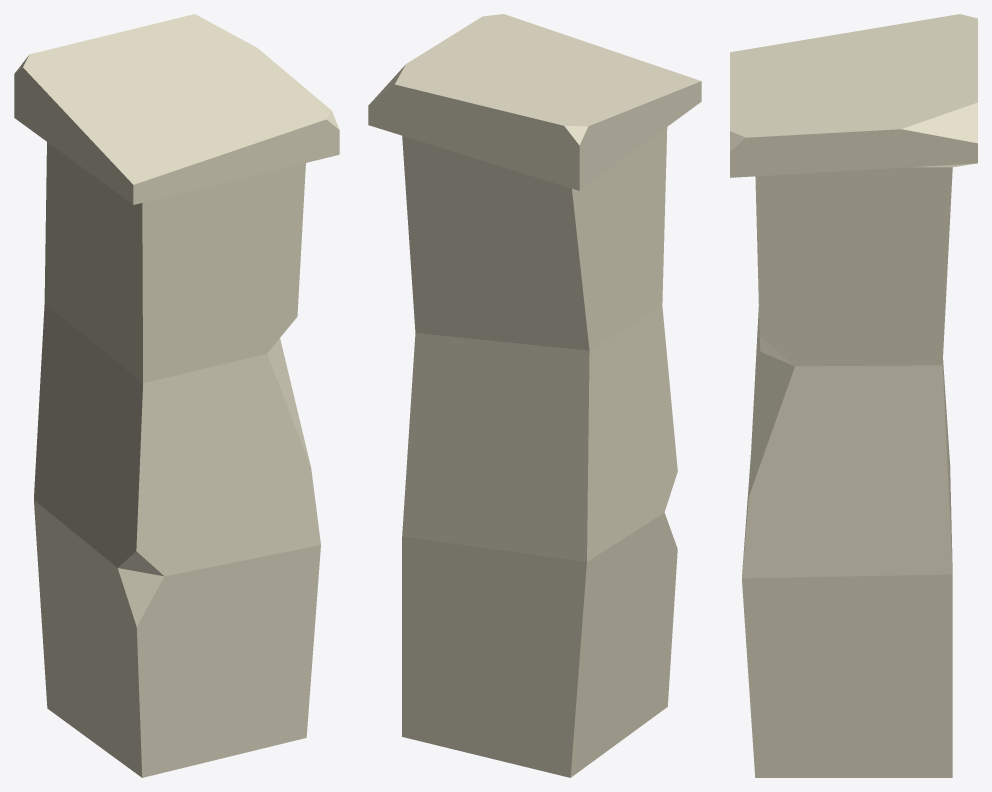
File: Ruin_3.fbx
3 views of the same model, side by side, from view 1: azimuth 30°, elevation 25°; view 2: azimuth 150°, elevation 25°; view 3: azimuth 270°, elevation 25° (orthographic). The views are drawn at different scales.
Parts seen in each view (by area): view 1: Column.001; view 2: Column.001; view 3: Column.001.
Boxes of the visible parts, x1,y1,x2,y2 form: Column.001: (14,14,339,777); Column.001: (368,14,701,777); Column.001: (730,14,977,777).
Size of the model in its own units: 61.3 by 184 by 61.3.
